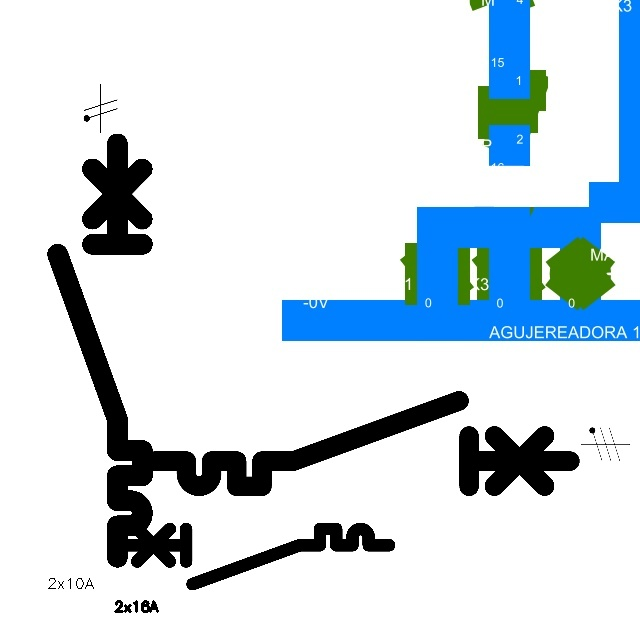interruptor_termomagnetico: (144, 390, 580, 497), (47, 133, 153, 568), (114, 522, 396, 591)
